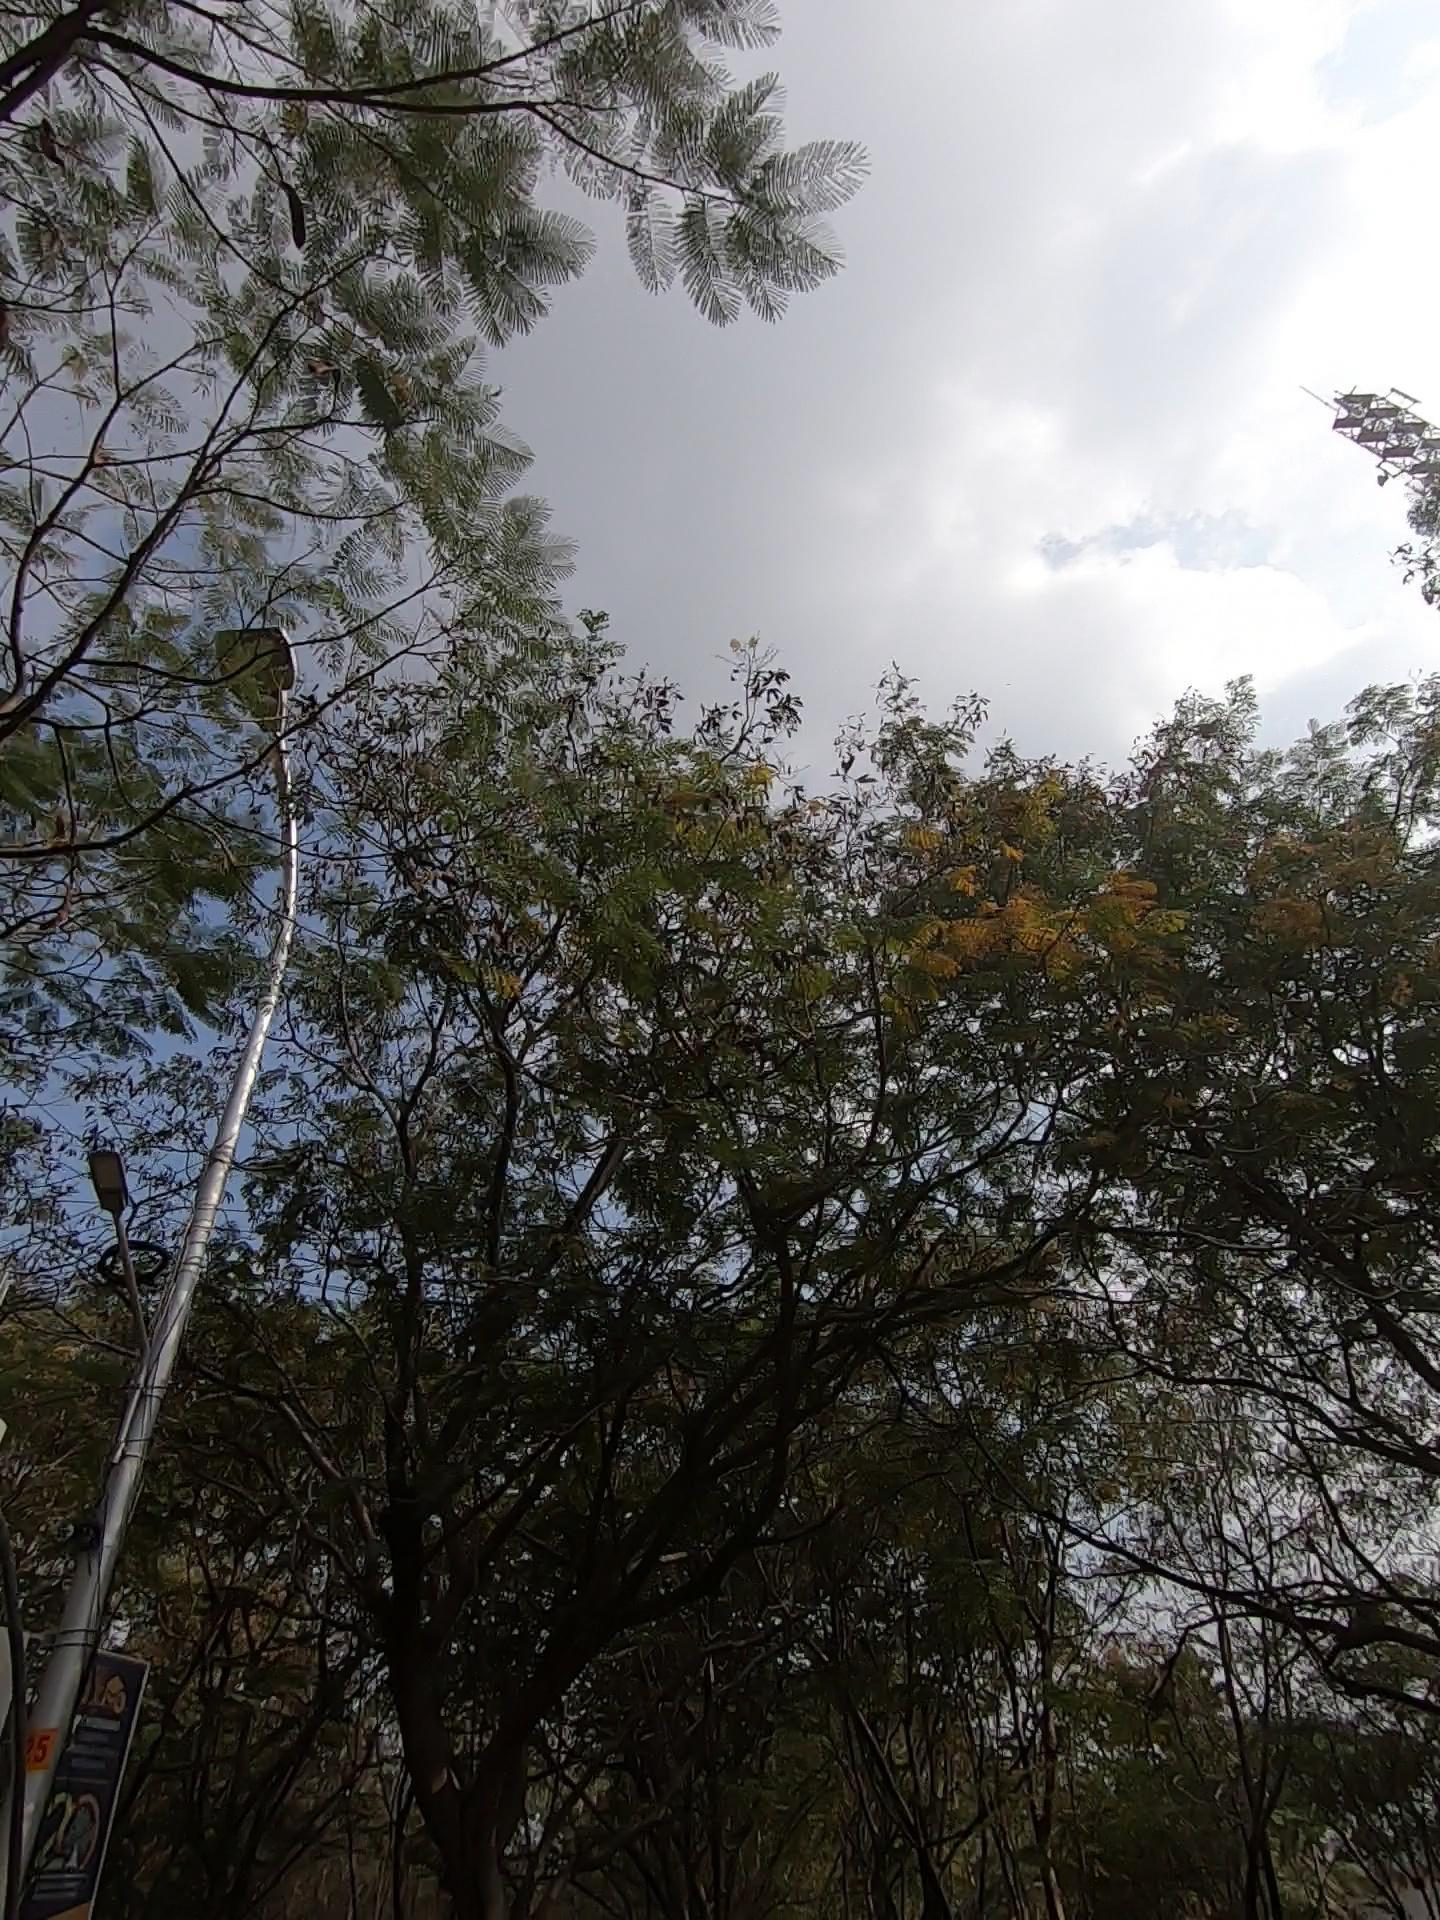off: (150, 546, 487, 1043)
